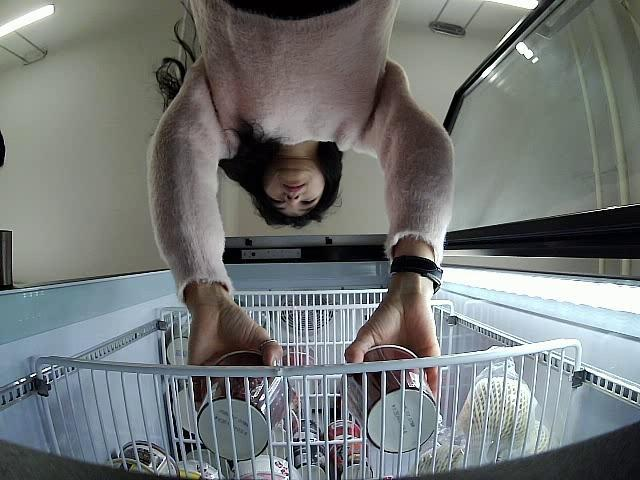06_nuguri_S: (342, 345, 438, 454), (200, 352, 292, 462)
